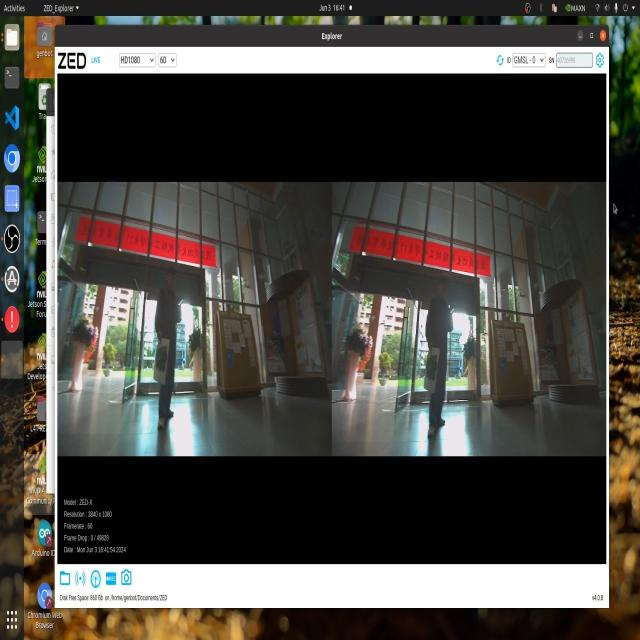green: (154, 344, 177, 379), (422, 350, 438, 377)
